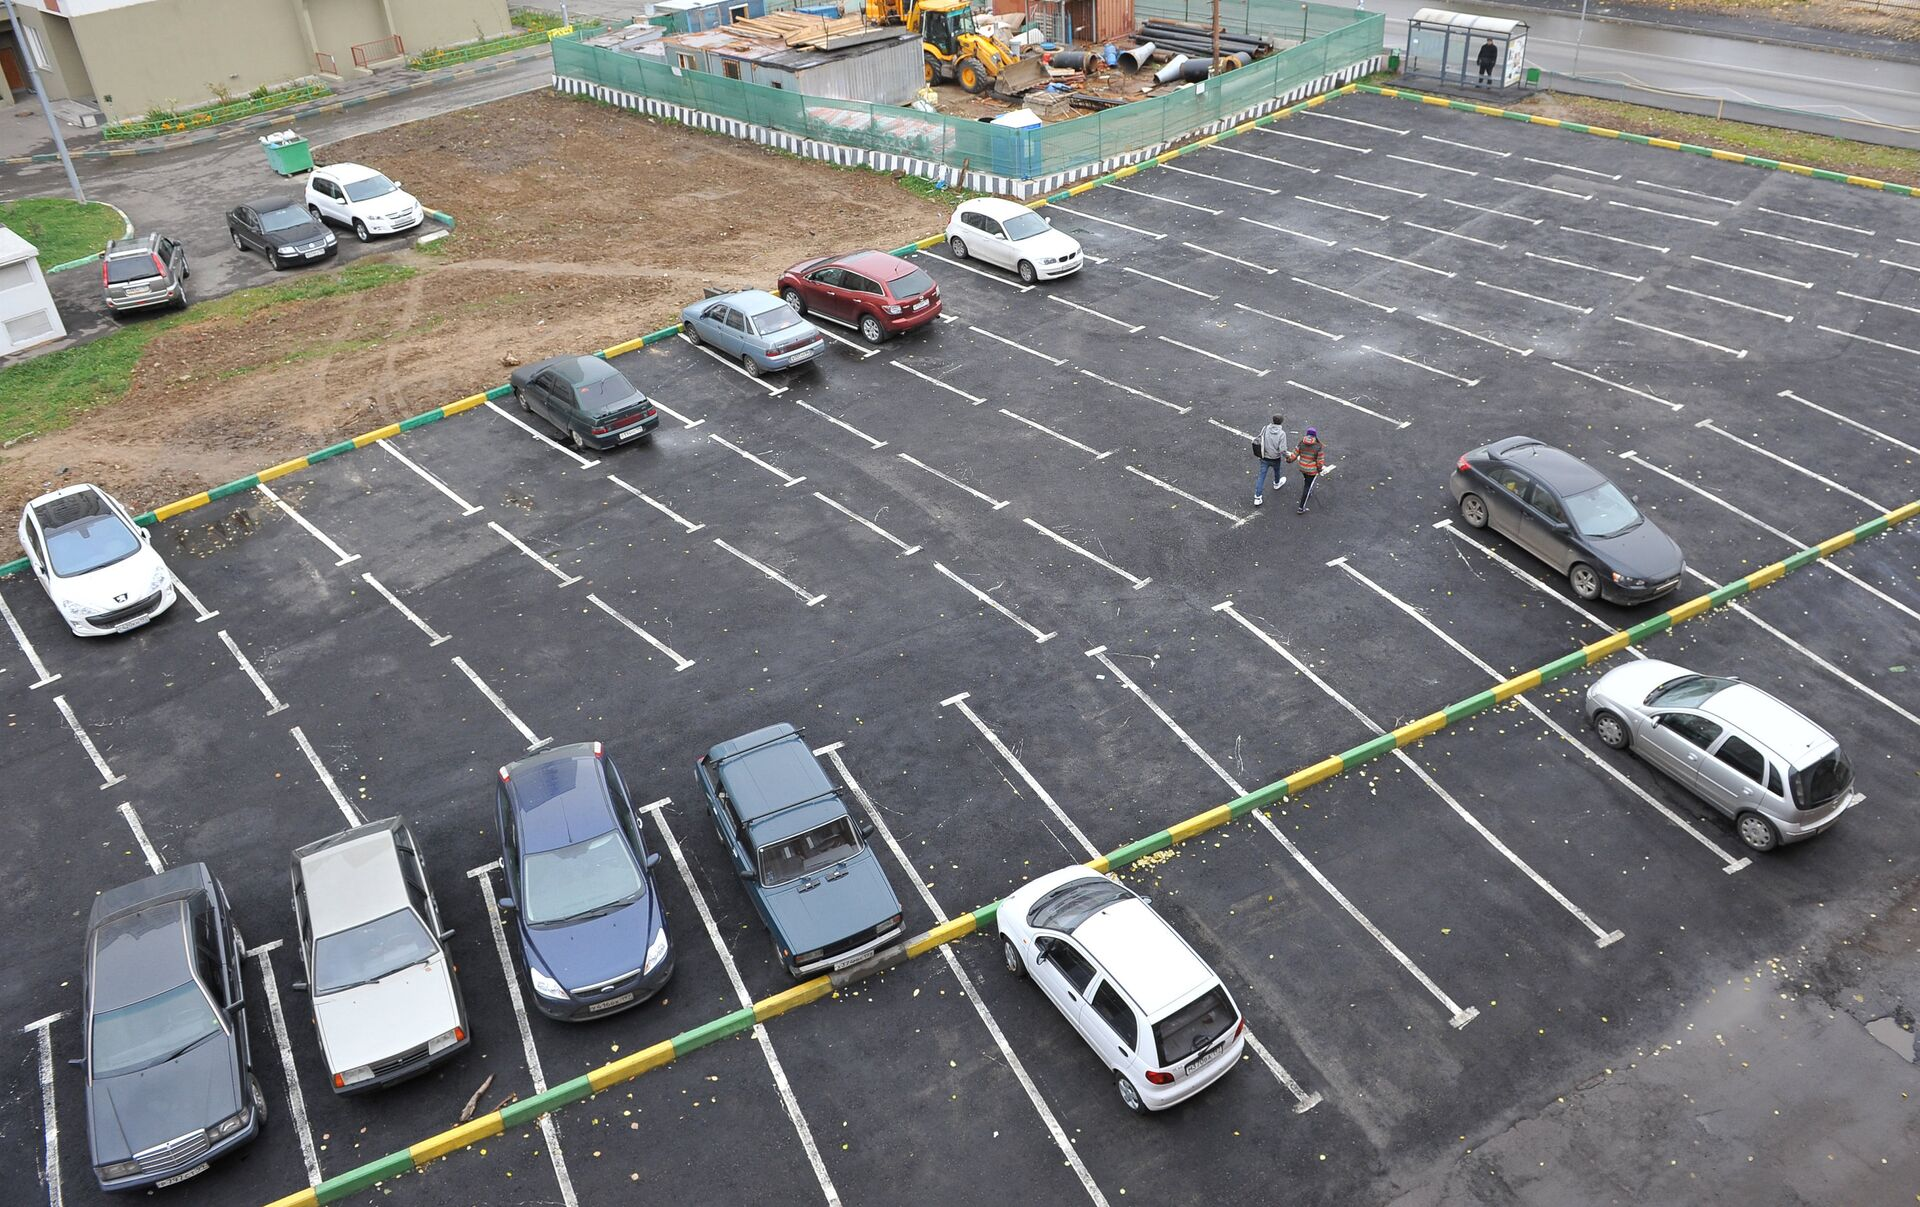Car: (997, 866, 1246, 1112), (85, 864, 266, 1192), (697, 723, 905, 980), (1585, 661, 1855, 851), (496, 741, 674, 1022), (291, 818, 470, 1094), (1450, 437, 1686, 603), (19, 485, 177, 637), (779, 252, 941, 343), (512, 356, 660, 451), (683, 289, 826, 377), (945, 197, 1084, 285), (306, 163, 425, 242), (227, 197, 336, 268), (101, 232, 189, 317)
